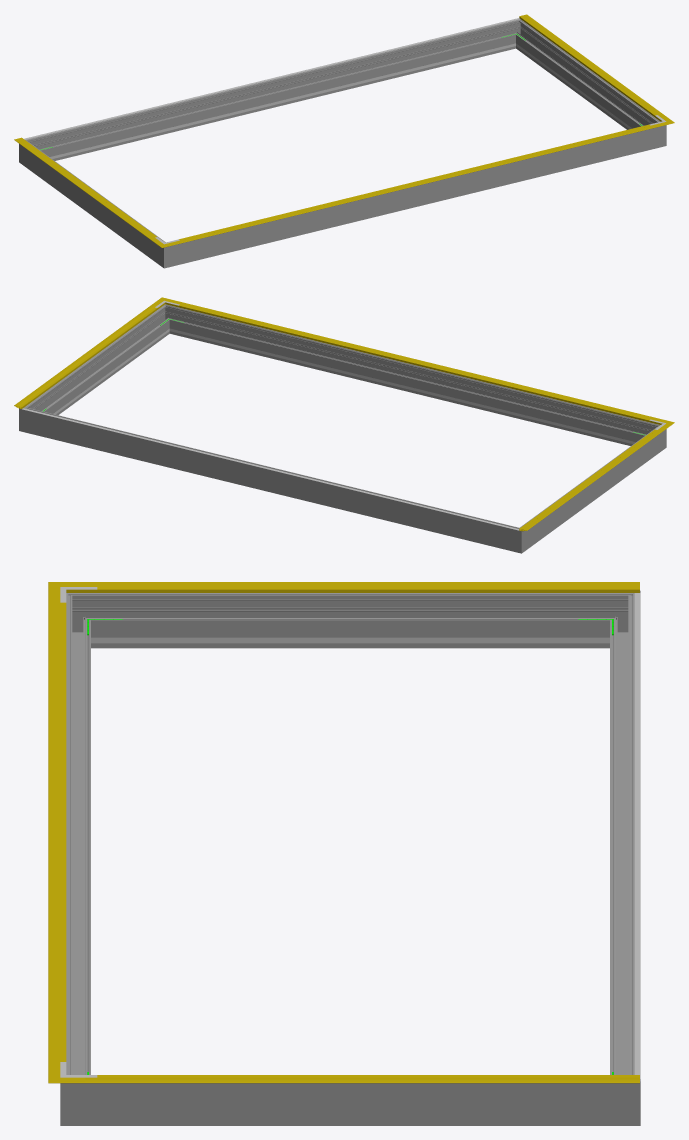
3 views of the same model, one above another, from view 1: azimuth 30°, elevation 25°; view 2: azimuth 150°, elevation 25°; view 3: azimuth 270°, elevation 25° (orthographic). The views are drawn at different scales.
Visible parts, largest first — view 1: 3DGeom-276, 3DGeom-298, 3DGeom-297, 3DGeom-268, 3DGeom-141, 3DGeom-244, 3DGeom-145, 3DGeom-220, 3DGeom-158, 3DGeom-147, 3DGeom-270, 3DGeom-152 (+2 smaller); view 2: 3DGeom-298, 3DGeom-276, 3DGeom-297, 3DGeom-141, 3DGeom-268, 3DGeom-239, 3DGeom-145, 3DGeom-220, 3DGeom-158, 3DGeom-147, 3DGeom-278, 3DGeom-154 (+2 smaller); view 3: 3DGeom-268, 3DGeom-297, 3DGeom-276, 3DGeom-298, 3DGeom-141, 3DGeom-147, 3DGeom-145, 3DGeom-220, 3DGeom-158, 3DGeom-232, 3DGeom-284, 3DGeom-290 (+4 smaller).
Part boxes in pixels (x1,y1,x2,y2): 3DGeom-276: (36,22,513,160); 3DGeom-298: (180,129,650,264); 3DGeom-297: (517,25,654,129); 3DGeom-268: (28,145,159,261); 3DGeom-141: (175,124,658,244); 3DGeom-244: (55,47,500,157); 3DGeom-145: (519,14,664,119); 3DGeom-220: (24,18,519,139); 3DGeom-158: (179,124,649,240); 3DGeom-147: (14,138,157,240); 3DGeom-270: (155,238,179,268); 3DGeom-152: (519,15,656,115); 3DGeom-298: (172,307,649,445); 3DGeom-276: (35,410,508,549); 3DGeom-297: (31,310,168,415); 3DGeom-141: (173,301,658,423); 3DGeom-268: (526,430,657,546); 3DGeom-239: (185,332,630,443); 3DGeom-145: (14,304,160,409); 3DGeom-220: (22,408,519,530); 3DGeom-158: (179,304,650,420); 3DGeom-147: (519,428,665,531); 3DGeom-278: (505,523,530,553); 3DGeom-154: (519,429,656,529); 3DGeom-268: (97,593,603,648); 3DGeom-297: (97,1083,603,1125); 3DGeom-276: (610,606,634,1074); 3DGeom-298: (66,606,90,1074); 3DGeom-141: (48,597,60,1066); 3DGeom-147: (85,582,639,592); 3DGeom-145: (85,1077,639,1083); 3DGeom-220: (634,593,640,1078); 3DGeom-158: (60,602,66,1061); 3DGeom-232: (126,637,573,643); 3DGeom-284: (603,1065,640,1125); 3DGeom-290: (60,1065,97,1125).
Size of the model in its own units: 4.88 by 0.2195 by 2.44.
